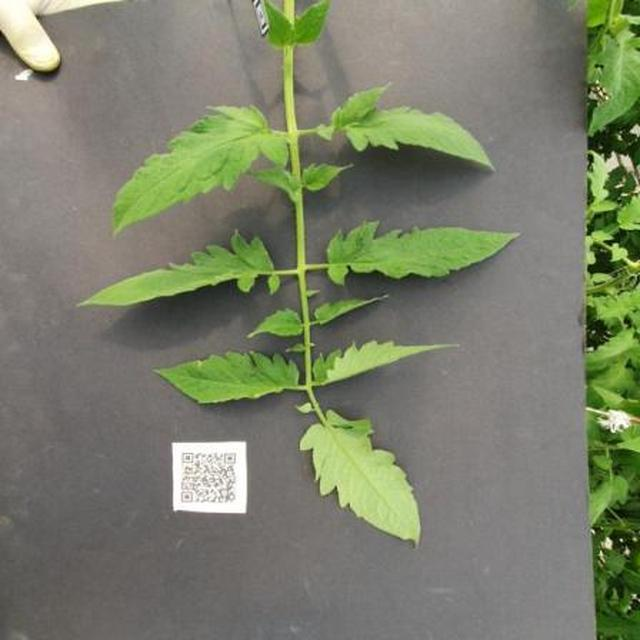Healthy Leaf: (177, 77, 605, 640)
